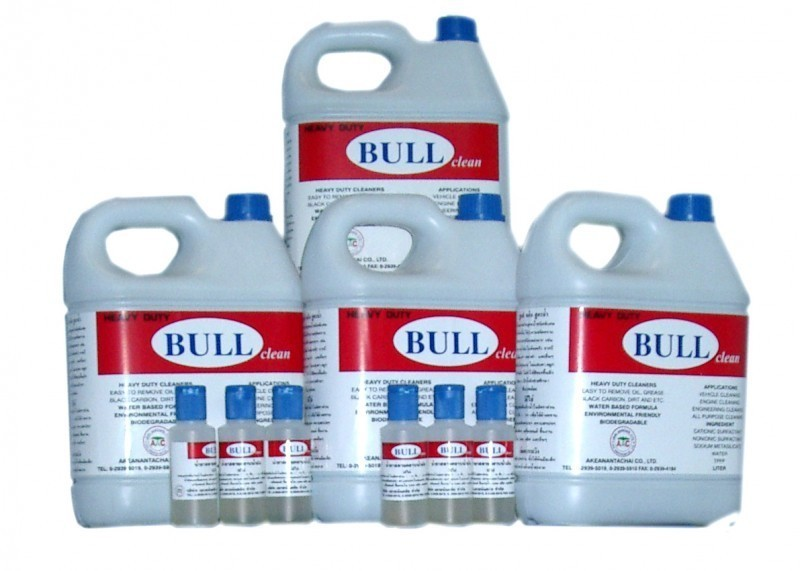Cleaning_solution: (508, 184, 752, 533), (59, 192, 306, 532), (296, 187, 522, 530), (276, 11, 518, 247), (376, 380, 432, 530), (167, 382, 222, 530), (264, 384, 318, 527), (217, 382, 267, 527), (470, 381, 519, 526), (428, 380, 475, 529)
